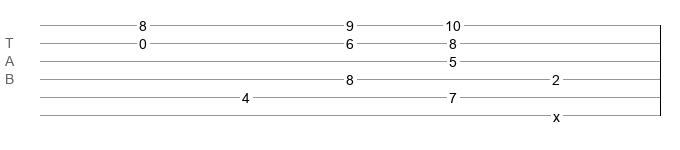0: (139, 36, 147, 46)
10: (445, 18, 461, 28)
2: (552, 72, 560, 82)
4: (242, 90, 250, 100)
5: (449, 54, 457, 64)
6: (346, 36, 354, 46)
7: (449, 90, 457, 100)
8: (139, 18, 147, 28), (346, 72, 354, 82), (449, 36, 457, 46)
9: (346, 18, 354, 28)
x: (553, 109, 560, 117)
